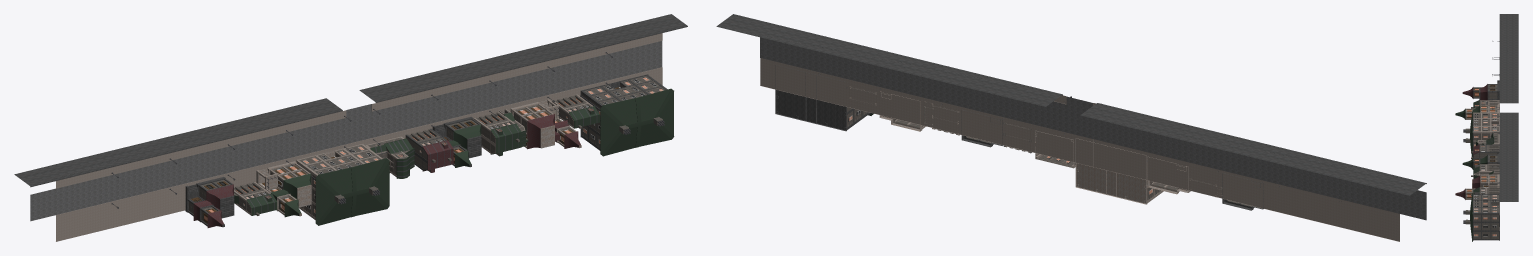
Rendered from StreetSet001a.fbx.
The picture shows the model from 3 angles, left to right: view 1: azimuth 30°, elevation 25°; view 2: azimuth 150°, elevation 25°; view 3: azimuth 270°, elevation 25°; orthographic projection. The views are drawn at different scales.
Parts seen in each view (by area): view 1: Bridge.004; view 2: Bridge.004; view 3: Bridge.004.
Boxes of the visible parts, x1=… form: Bridge.004: x1=14, y1=14, x2=687, y2=241; Bridge.004: x1=716, y1=14, x2=1426, y2=241; Bridge.004: x1=1455, y1=14, x2=1518, y2=241.
Bounding box in the file's own units: 18100 × 2294 × 2587.
